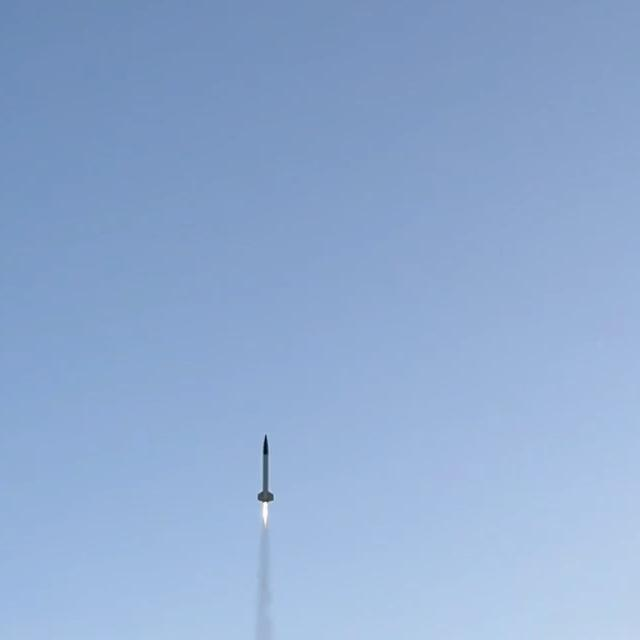rocket: (260, 435, 272, 500)
smoke_trail_with_rocket: (256, 435, 273, 640)
